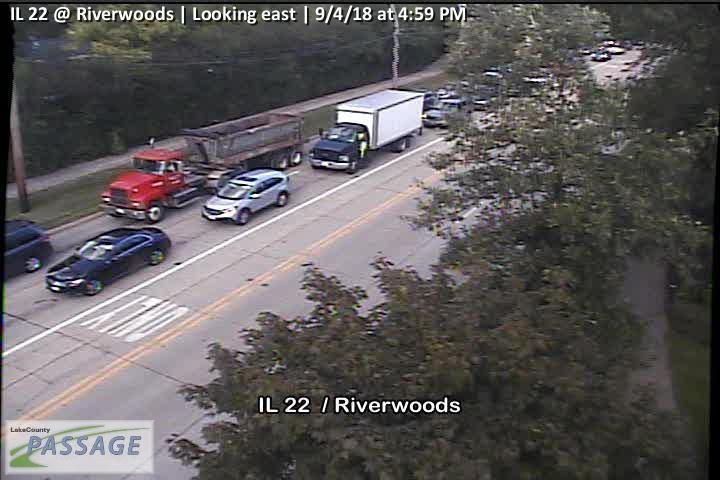SUV: (200, 167, 291, 225)
Sedan: (43, 226, 172, 296)
Truck: (97, 110, 306, 224), (307, 88, 426, 174)
